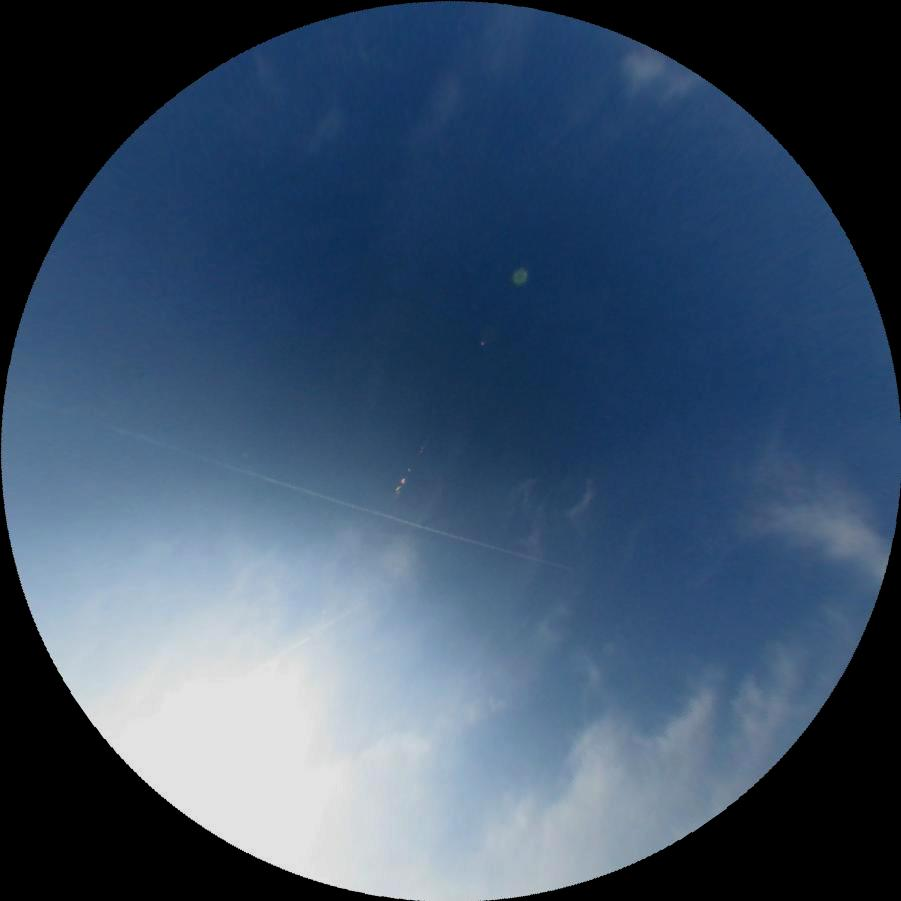contrail young: (3, 386, 576, 576)
